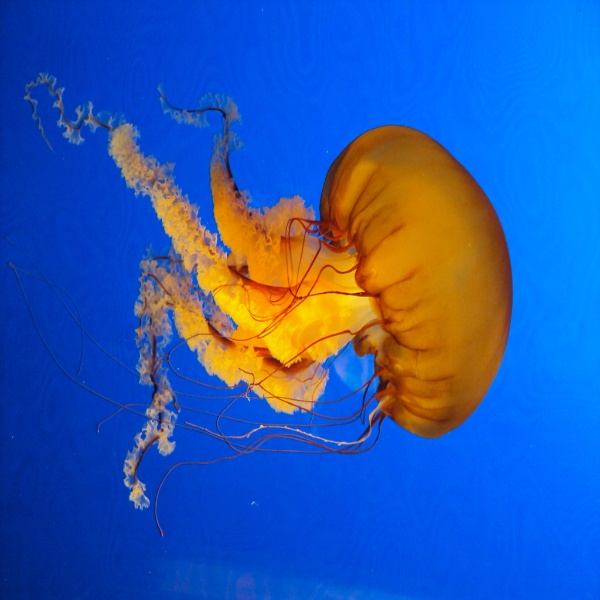Jellyfish: (4, 73, 512, 537)
